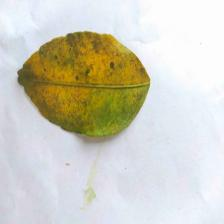black spot: (14, 29, 125, 101)
